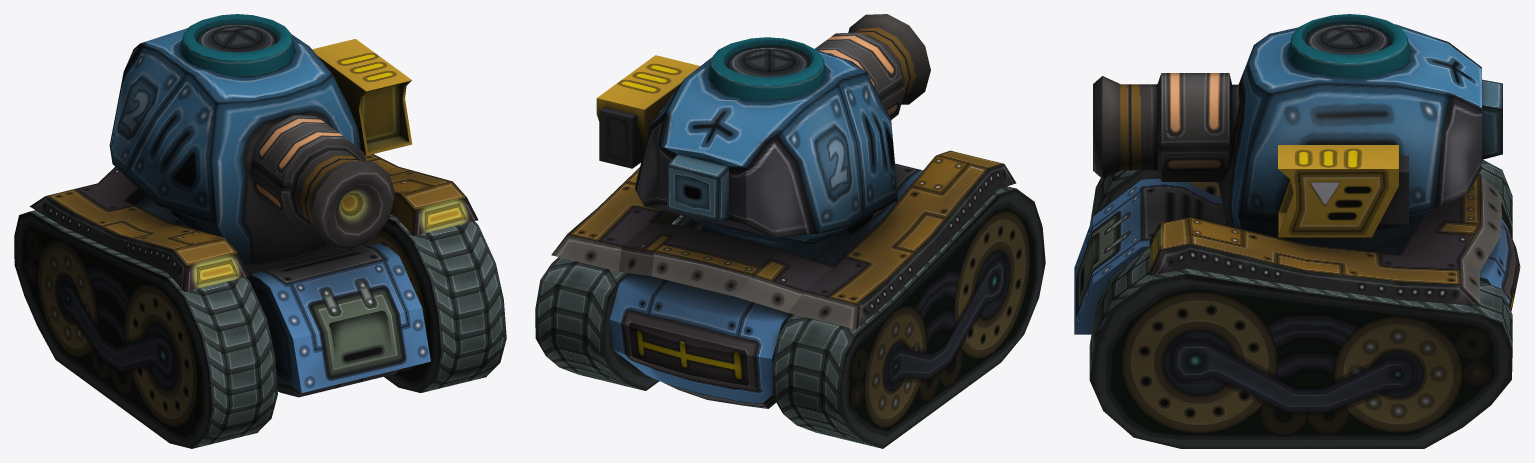
Rendered from ExportedOriginalTank1.FBX.
3 views of the same model, side by side, from view 1: azimuth 30°, elevation 25°; view 2: azimuth 150°, elevation 25°; view 3: azimuth 270°, elevation 25° (orthographic). The views are drawn at different scales.
Parts seen in each view (by area): view 1: SciFi Ultra Tank 2.2, SciFi Ultra Tank 2.2_turret (×2); view 2: SciFi Ultra Tank 2.2, SciFi Ultra Tank 2.2_turret (×2); view 3: SciFi Ultra Tank 2.2, SciFi Ultra Tank 2.2_turret (×2).
Part boxes in pixels (bbox=[...]): SciFi Ultra Tank 2.2: bbox=[14, 154, 506, 448]; SciFi Ultra Tank 2.2_turret (×2): bbox=[109, 14, 412, 263]; SciFi Ultra Tank 2.2: bbox=[535, 150, 1045, 448]; SciFi Ultra Tank 2.2_turret (×2): bbox=[596, 14, 930, 259]; SciFi Ultra Tank 2.2: bbox=[1074, 159, 1520, 448]; SciFi Ultra Tank 2.2_turret (×2): bbox=[1093, 14, 1502, 251].
Bounding box in the file's own units: 101 × 104 × 124.
1 material, 1 textured.
